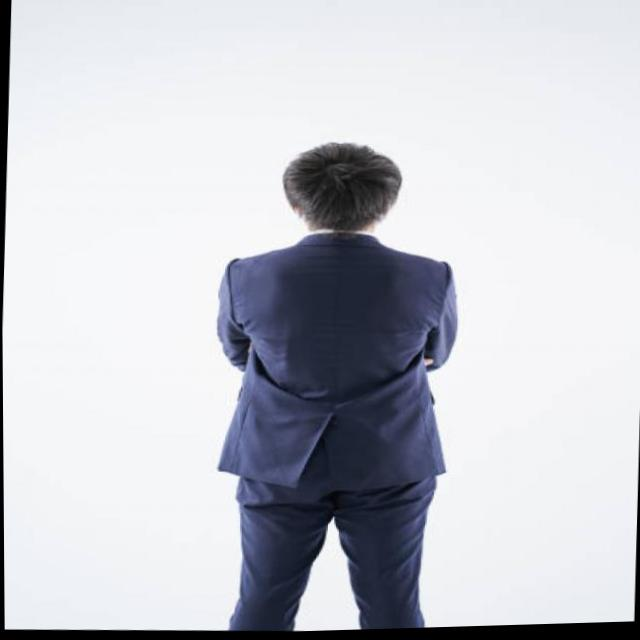no helmet: (261, 137, 419, 244)
